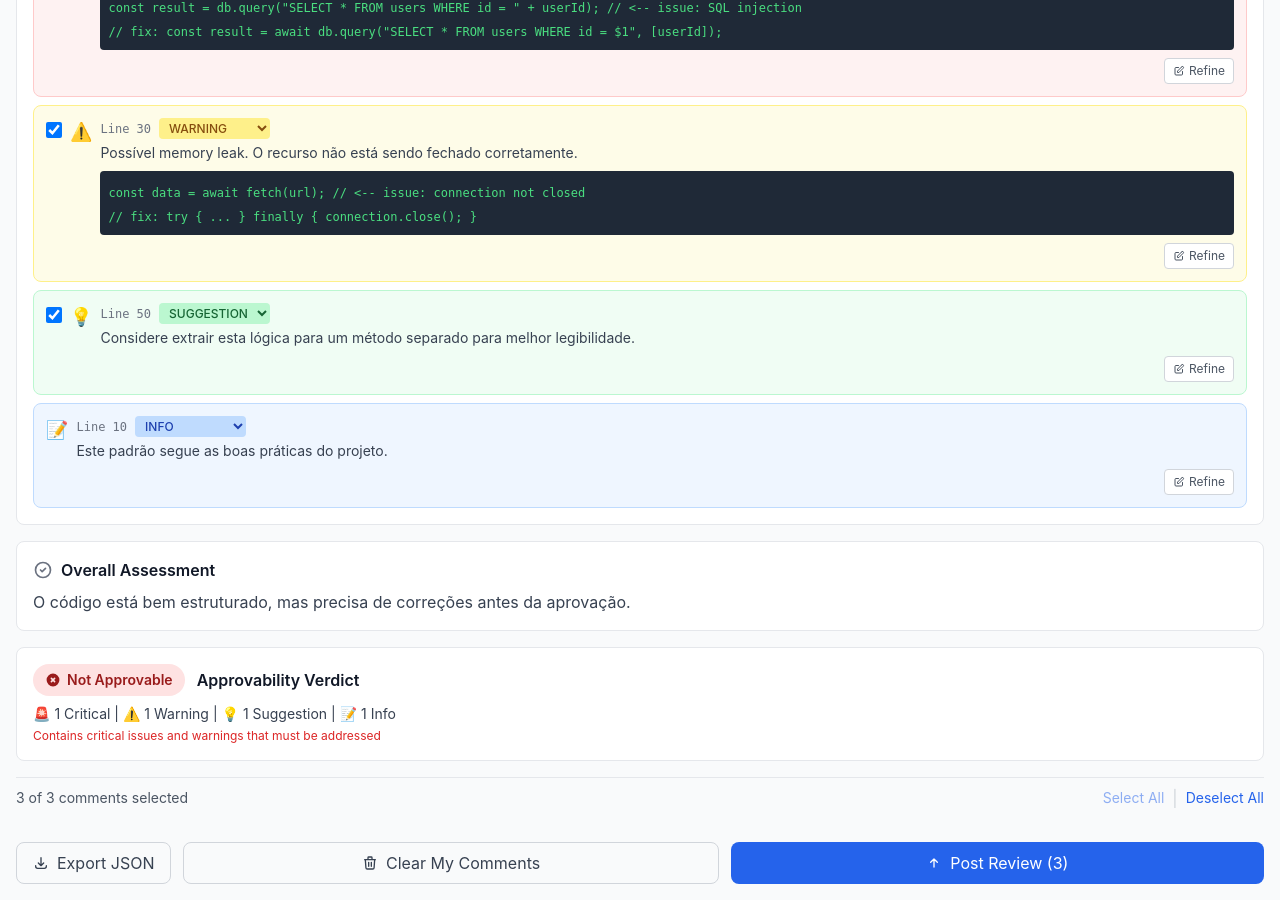
Test case: ReviewDisplayView › Export JSON › should show error when MR info is missing for export
(page scrolled)
Click the button "Export JSON" at [94, 863], box top-left (16, 842), bottom-right (171, 884)
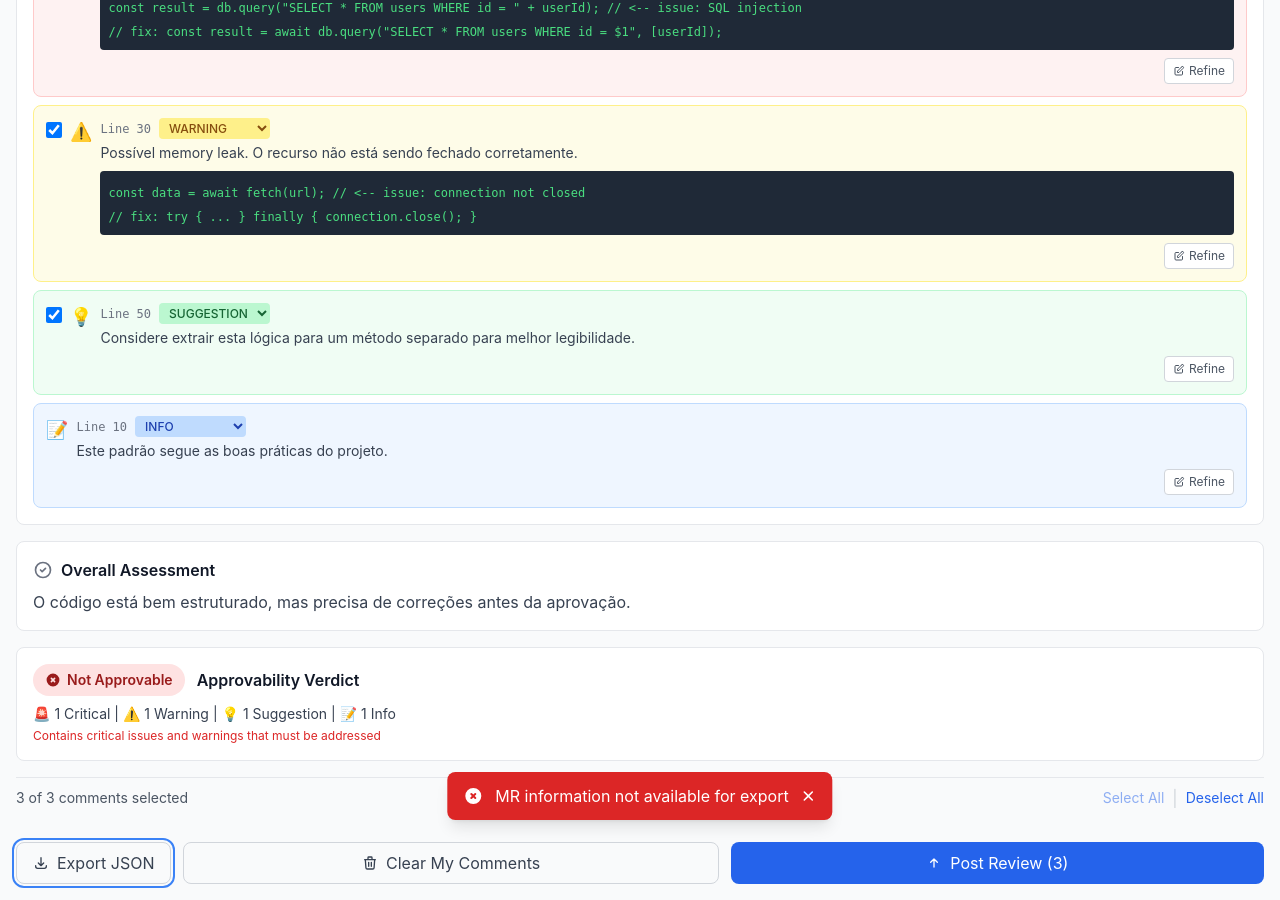
Expected: the text "MR information not available for export" is shown, top-left (495, 784), bottom-right (789, 808)
